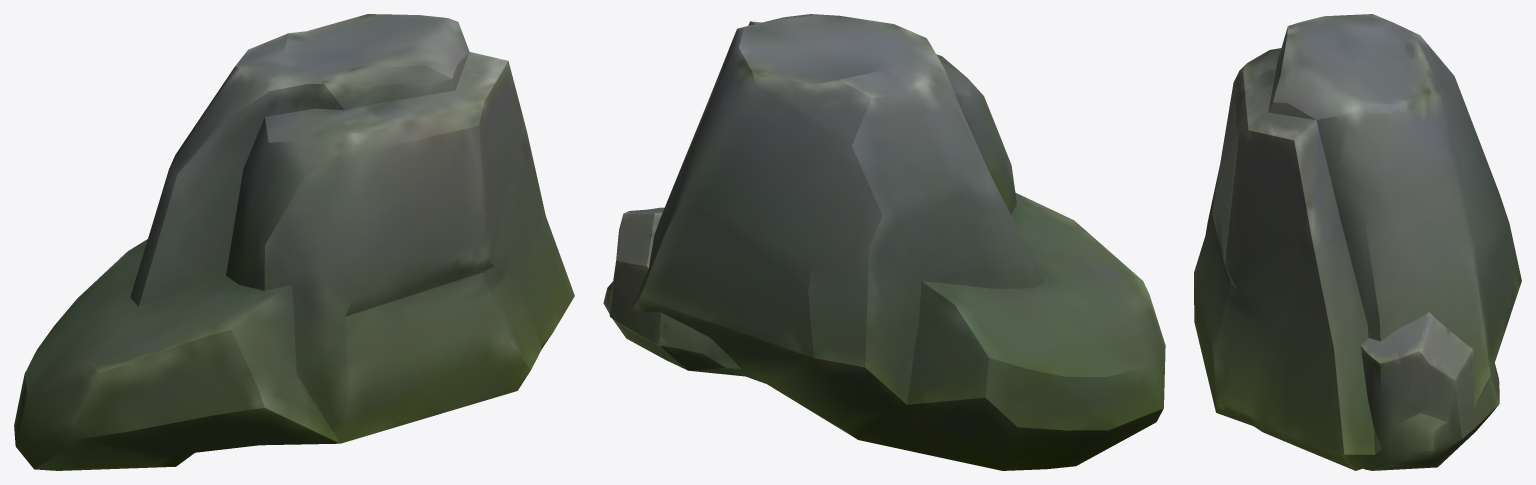
File: marker.glb
3 renders of one model, left to right at view 1: azimuth 30°, elevation 25°; view 2: azimuth 150°, elevation 25°; view 3: azimuth 270°, elevation 25°, orthographic. The views are drawn at different scales.
Visible parts, largest first — view 1: Rock_Medium_1.001; view 2: Rock_Medium_1.001; view 3: Rock_Medium_1.001.
Boxes of the visible parts, bbox=[...] form: Rock_Medium_1.001: bbox=[14, 14, 574, 470]; Rock_Medium_1.001: bbox=[603, 14, 1165, 470]; Rock_Medium_1.001: bbox=[1194, 14, 1521, 470].
Size of the model in its own units: 3.1 by 2 by 1.6.
2 materials, 2 textured.
